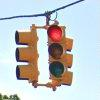traffic lights: (46, 24, 75, 88), (15, 21, 38, 88)
